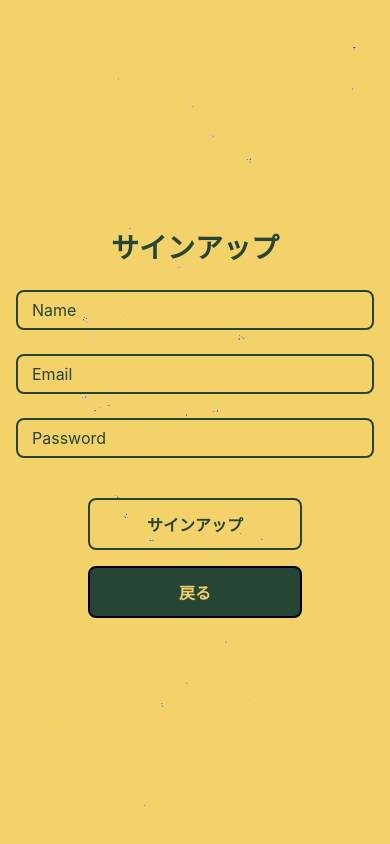
Scenario: SignUpScreen › 未入力でサインアップを押すとバリデーションエラーが出る
Step 1. Click the 2nd text "サインアップ" → click(195, 524), box 147,512 -> 243,536
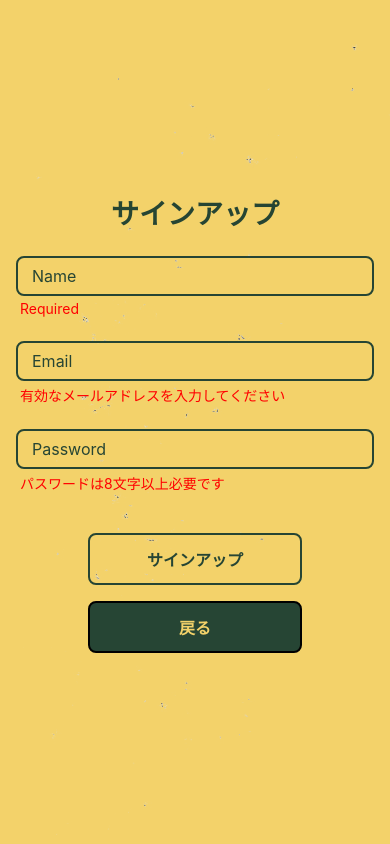
Now the text "有効なメールアドレスを入力してください" is shown, box 20,386 -> 285,404
Now the text "パスワードは8文字以上必要です" is shown, box 20,474 -> 225,492
